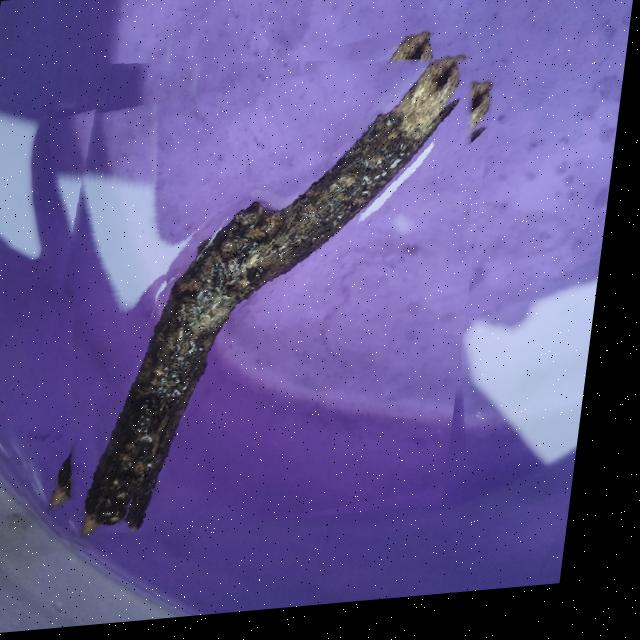wood: (27, 37, 503, 543)
